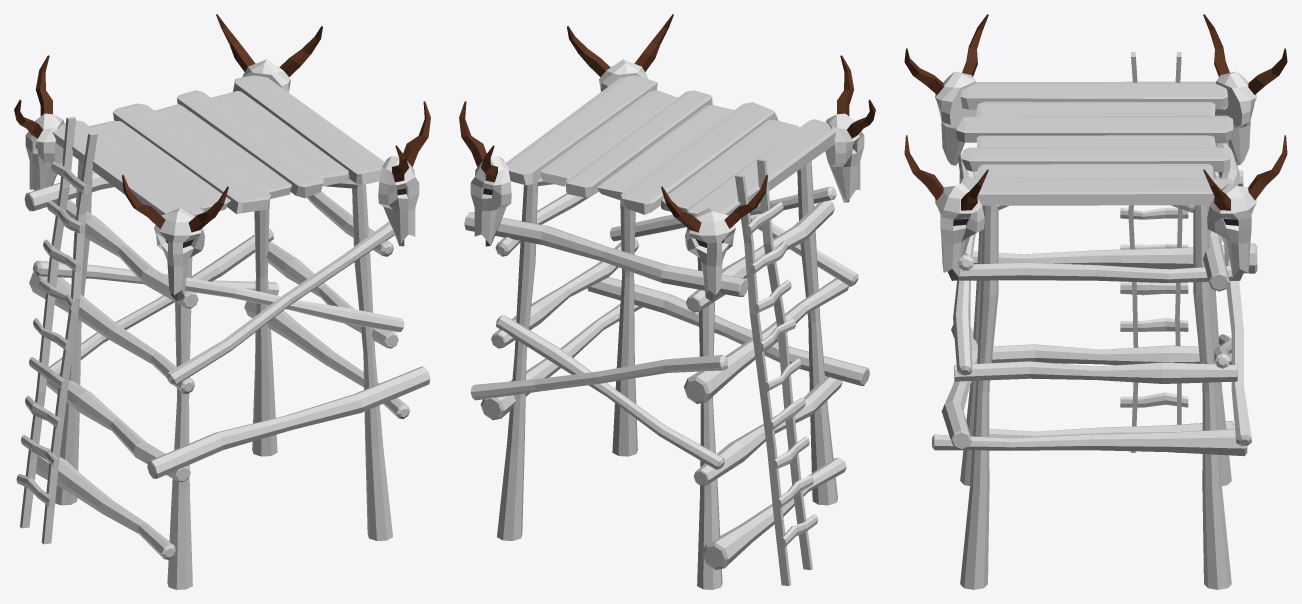
Rendered from Archer Tower.fbx.
The picture shows the model from 3 angles, left to right: view 1: azimuth 30°, elevation 25°; view 2: azimuth 150°, elevation 25°; view 3: azimuth 270°, elevation 25°; orthographic projection. The views are drawn at different scales.
Parts seen in each view (by area): view 1: Gövde, Üst, KAfatası, Merdiven; view 2: Gövde, Üst, KAfatası, Merdiven; view 3: Gövde, Üst, KAfatası, Merdiven.
Boxes of the visible parts, x1,y1,x2,y2 form: Gövde: (24, 160, 430, 589); Üst: (52, 75, 384, 216); KAfatası: (14, 14, 430, 301); Merdiven: (16, 116, 97, 544); Gövde: (464, 161, 869, 589); Üst: (506, 75, 835, 216); KAfatası: (459, 14, 875, 301); Merdiven: (735, 158, 817, 585); Gövde: (932, 143, 1257, 589); Üst: (956, 81, 1235, 205); KAfatası: (904, 14, 1287, 280); Merdiven: (1120, 52, 1188, 452).
Size of the model in its own units: 8.69 by 10.99 by 8.66.
